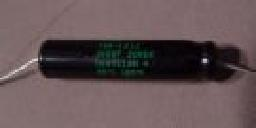Electrolytic-Capacitor: (27, 32, 256, 90)
